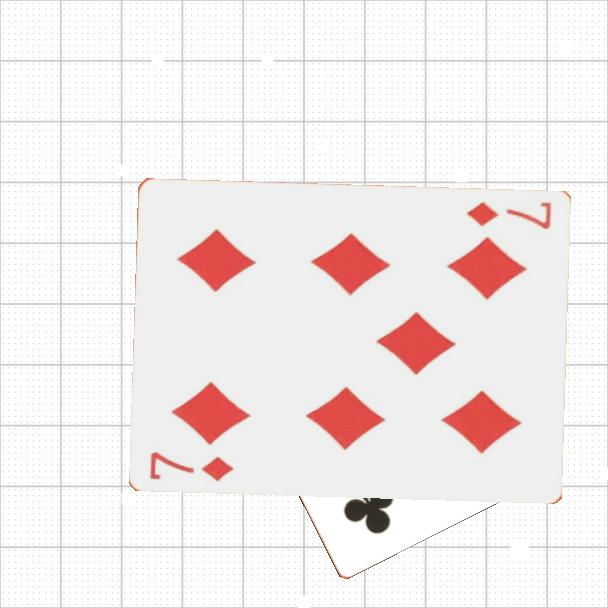d07: (147, 448, 237, 484), (464, 197, 555, 231)
